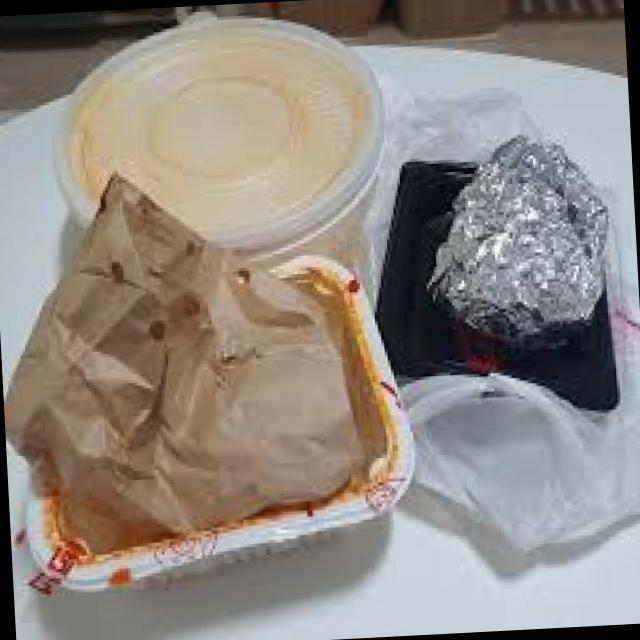aluminum foil: (406, 115, 611, 358)
plastic-bag: (355, 67, 640, 585)
plastic-bowl: (24, 254, 430, 615), (48, 10, 396, 268), (369, 146, 640, 428)
trash: (6, 157, 395, 554)
